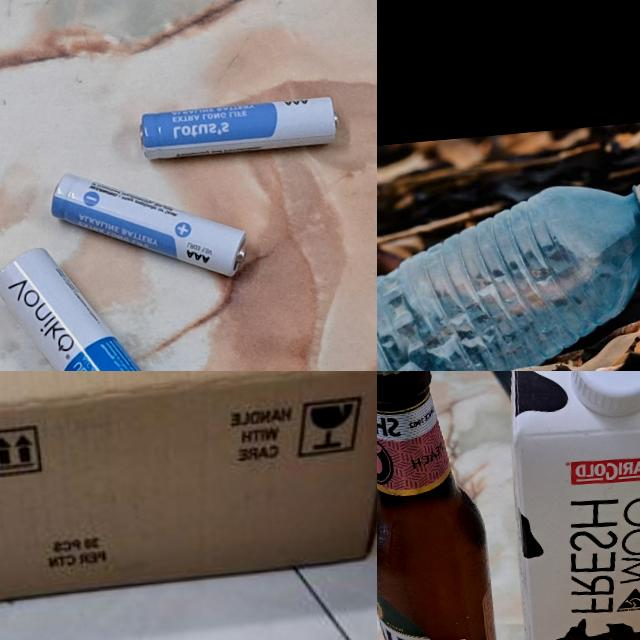bateria: (46, 158, 249, 292), (0, 237, 179, 371), (138, 96, 340, 160)
caixinha: (493, 371, 640, 640)
garrafa de vidro: (377, 371, 503, 640)
garrafa plástica: (377, 179, 640, 371)
papelão: (0, 371, 377, 629)
tampa plástica: (566, 371, 640, 420)
